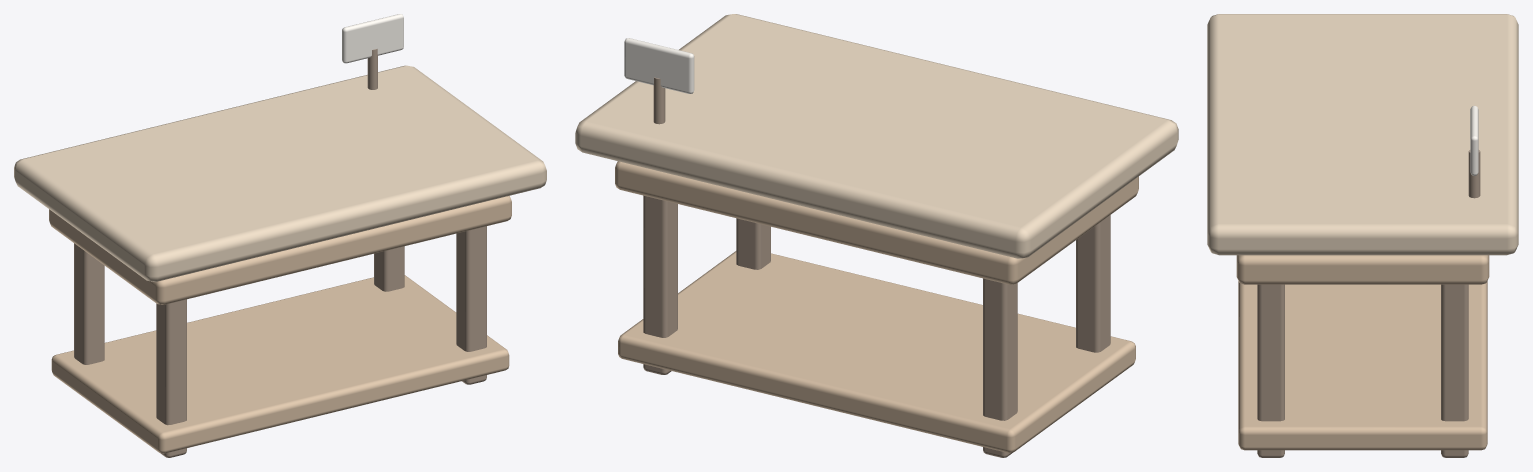
The model's file is display-w1_1.glb.
3 views of the same model, side by side, from view 1: azimuth 30°, elevation 25°; view 2: azimuth 150°, elevation 25°; view 3: azimuth 270°, elevation 25° (orthographic). The views are drawn at different scales.
Parts seen in each view (by area): view 1: display-w1_1.material0, display-w1_1.material1, display-w1_1.material2, display-w1_1.material3; view 2: display-w1_1.material0, display-w1_1.material1, display-w1_1.material2, display-w1_1.material3; view 3: display-w1_1.material0, display-w1_1.material1, display-w1_1.material2, display-w1_1.material3.
Boxes of the visible parts, left/top/right/bottom form: display-w1_1.material0: left=14, top=65, right=546, bottom=281; display-w1_1.material1: left=49, top=196, right=511, bottom=453; display-w1_1.material2: left=74, top=48, right=486, bottom=457; display-w1_1.material3: left=342, top=14, right=403, bottom=63; display-w1_1.material0: left=575, top=14, right=1178, bottom=258; display-w1_1.material1: left=615, top=161, right=1138, bottom=452; display-w1_1.material2: left=643, top=77, right=1110, bottom=457; display-w1_1.material3: left=624, top=38, right=694, bottom=93; display-w1_1.material0: left=1207, top=14, right=1518, bottom=255; display-w1_1.material1: left=1236, top=255, right=1489, bottom=450; display-w1_1.material2: left=1257, top=150, right=1480, bottom=457; display-w1_1.material3: left=1470, top=105, right=1478, bottom=175.
Size of the model in its own units: 1.58 by 1.11 by 0.95.
